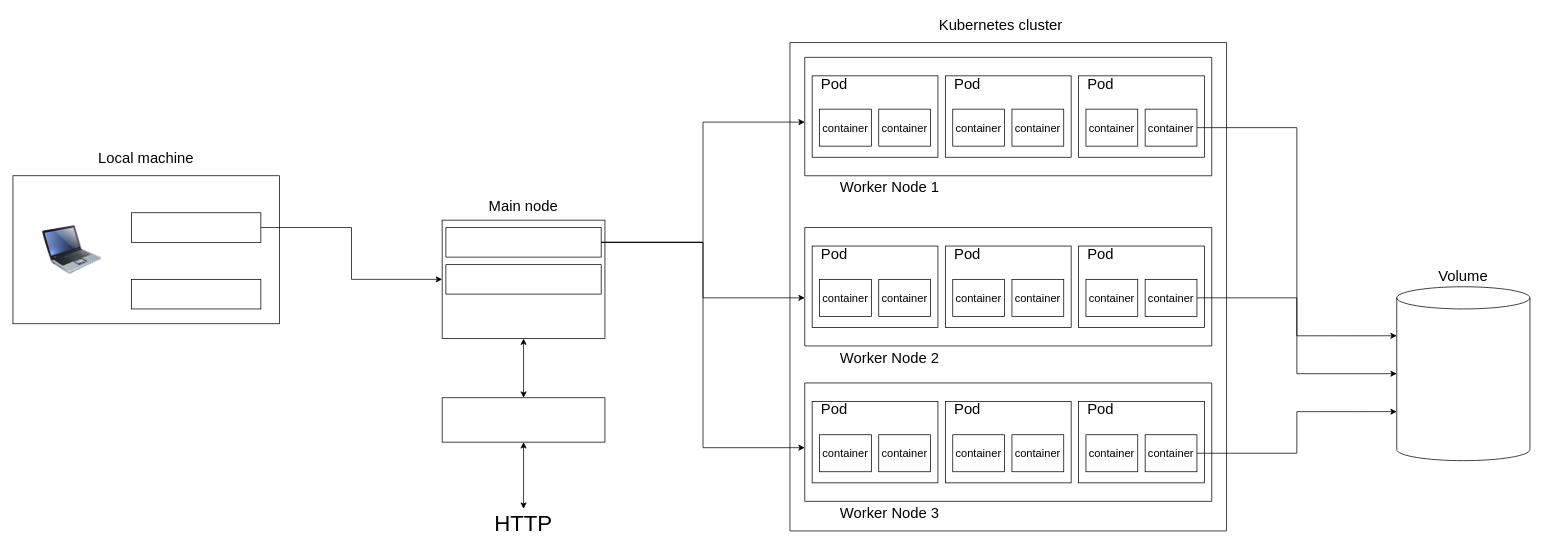
The diagram is 1561 pixels wide and 551 high, and some of its shapes have lost their labels. Each missing label, with the centre of its shape:
"A directory containing data, accessible to the containers in a Pod": pixel 1463 373
API server: pixel 523 279
config: pixel 196 294
Kubectl: pixel 196 227
Scheduler: pixel 523 242
Service: pixel 523 419
